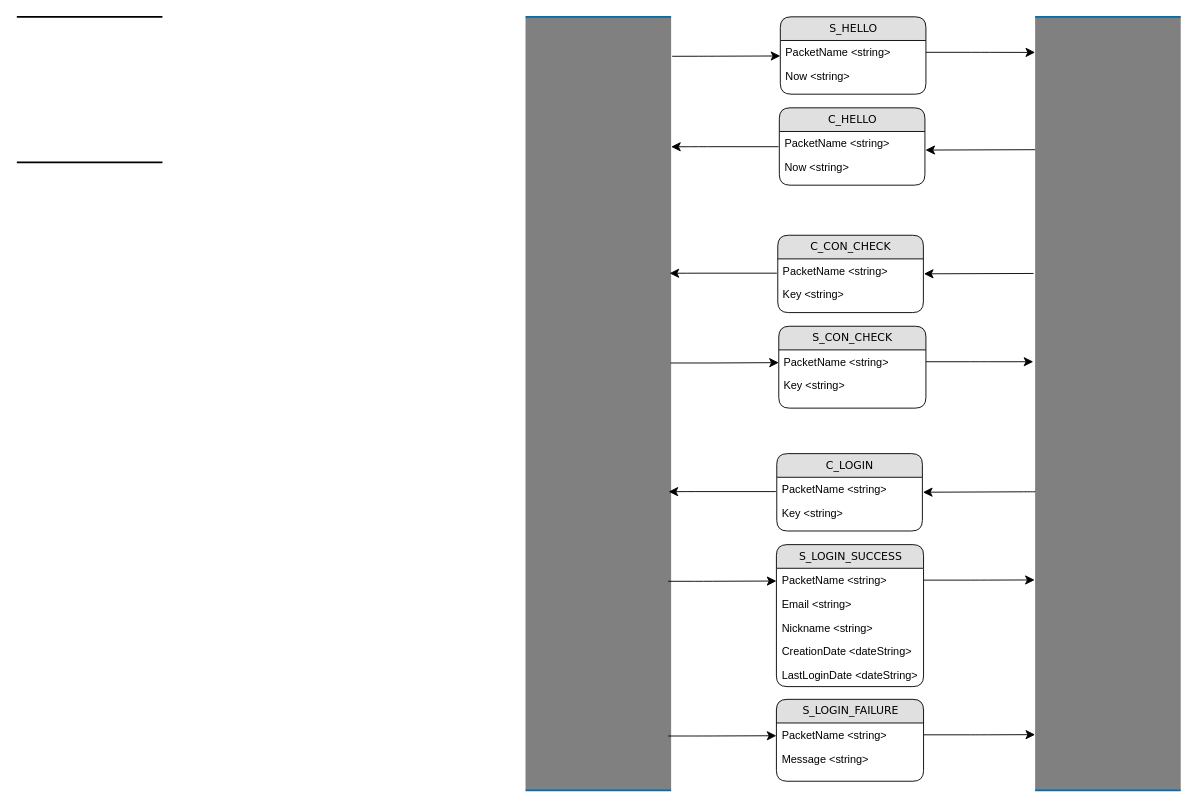
Some shapes in this 1197 by 806 pixel diagram are drawn without their labels. Each missing label, with the centre of its shape:
CLIENT: the point at 1107,403
OTHER CLIENTS: the point at 89,89
SERVER: the point at 598,403
